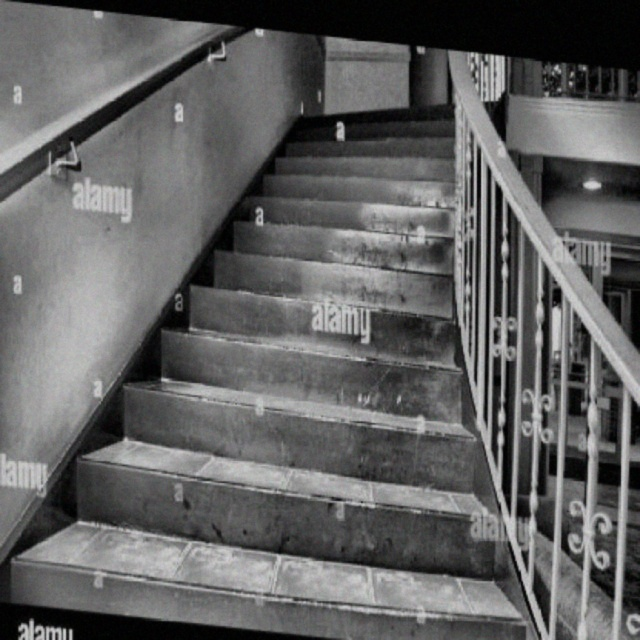stair: (12, 41, 535, 638)
